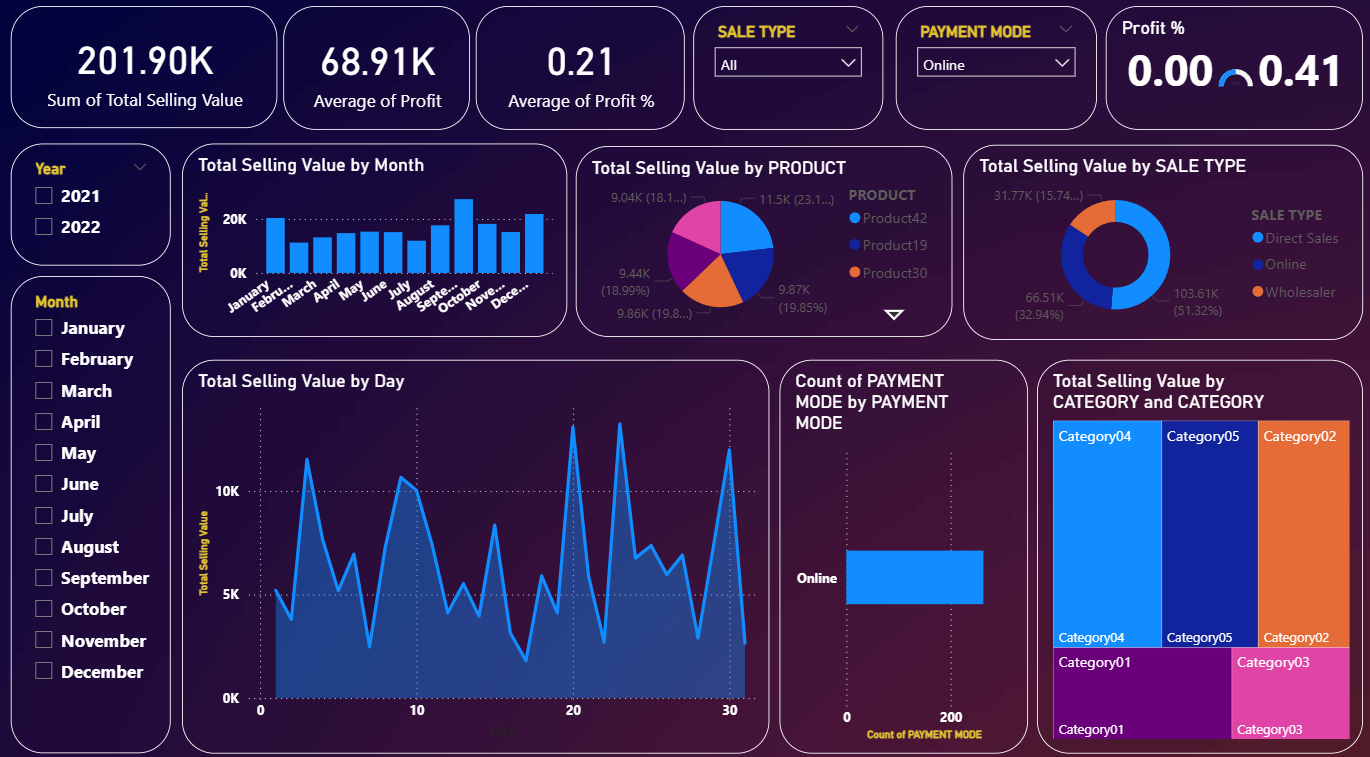

What the dashboard file says about the page in this screenshot:
{"tool":"powerbi","page":{"name":"Page 2","canvas":[1280,720],"ordinal":0},"visuals":[{"type":"slicer","title":"Monh","fields":{"Values":["InputData.DATE.Variation.Date Hierarchy.Month"]},"box":[12.8,265.1,148.8,444.2],"z":0},{"type":"slicer","fields":{"Values":["InputData.DATE.Variation.Date Hierarchy.Year"]},"box":[12.8,141.9,148.8,114],"z":1000},{"type":"columnChart","fields":{"Category":["InputData.DATE.Variation.Date Hierarchy.Month"],"Y":["Sum(InputData.Total Selling Value)"]},"box":[172.1,141.9,358.1,180.2],"z":2000},{"type":"areaChart","fields":{"Category":["InputData.DATE.Variation.Date Hierarchy.Day"],"Y":["Sum(InputData.Total Selling Value)"]},"box":[172.1,343,546.5,366.3],"z":3000},{"type":"barChart","fields":{"Y":["CountNonNull(InputData.PAYMENT MODE)"],"Category":["InputData.PAYMENT MODE"]},"box":[727.9,343,231.4,366.3],"z":4000},{"type":"pieChart","fields":{"Y":["Sum(InputData.Total Selling Value)"],"Category":["MasterData.PRODUCT"]},"box":[538.4,144.2,350,177.9],"z":5000},{"type":"donutChart","fields":{"Category":["InputData.SALE TYPE"],"Y":["Sum(InputData.Total Selling Value)"]},"box":[898.8,143,372.1,181.4],"z":6000},{"type":"treemap","fields":{"Group":["MasterData.CATEGORY"],"Details":["MasterData.CATEGORY"],"Values":["Sum(InputData.Total Selling Value)"]},"box":[967.4,343,303.5,366.3],"z":7000},{"type":"card","fields":{"Values":["Sum(InputData.Total Selling Value)"]},"box":[12.8,14,247.7,114],"z":8000},{"type":"card","fields":{"Values":["Avg(InputData.Profit)"]},"box":[266.3,14,173.3,115.1],"z":9000},{"type":"card","fields":{"Values":["Avg(InputData.Profit %)"]},"box":[445.4,14,194.2,115.1],"z":10000},{"type":"slicer","fields":{"Values":["InputData.PAYMENT MODE"]},"box":[836,14,187.2,115.1],"z":11000},{"type":"slicer","fields":{"Values":["InputData.SALE TYPE"]},"box":[647.7,14,176.7,115.1],"z":12000},{"type":"gauge","fields":{"Y":["Avg(InputData.Profit %)"]},"box":[1031.4,14,239.5,115.1],"z":13000}]}

Visuals, with their boxes in screenshot pixels (x1, y1, x2, y2), scaled from the page's 1280x720 canvas onto the 1370x757 screenshot:
"Monh" slicer: bbox(14, 279, 173, 746)
slicer - InputData.DATE.Variation.Date Hierarchy.Year: bbox(14, 149, 173, 269)
columnChart - InputData.DATE.Variation.Date Hierarchy.Month x Sum(InputData.Total Selling Value): bbox(184, 149, 567, 339)
areaChart - InputData.DATE.Variation.Date Hierarchy.Day x Sum(InputData.Total Selling Value): bbox(184, 361, 769, 746)
barChart - CountNonNull(InputData.PAYMENT MODE) x InputData.PAYMENT MODE: bbox(779, 361, 1027, 746)
pieChart - Sum(InputData.Total Selling Value) x MasterData.PRODUCT: bbox(576, 152, 951, 339)
donutChart - InputData.SALE TYPE x Sum(InputData.Total Selling Value): bbox(962, 150, 1360, 341)
treemap - MasterData.CATEGORY x MasterData.CATEGORY: bbox(1035, 361, 1360, 746)
card - Sum(InputData.Total Selling Value): bbox(14, 15, 279, 135)
card - Avg(InputData.Profit): bbox(285, 15, 471, 136)
card - Avg(InputData.Profit %): bbox(477, 15, 685, 136)
slicer - InputData.PAYMENT MODE: bbox(895, 15, 1095, 136)
slicer - InputData.SALE TYPE: bbox(693, 15, 882, 136)
gauge - Avg(InputData.Profit %): bbox(1104, 15, 1360, 136)
